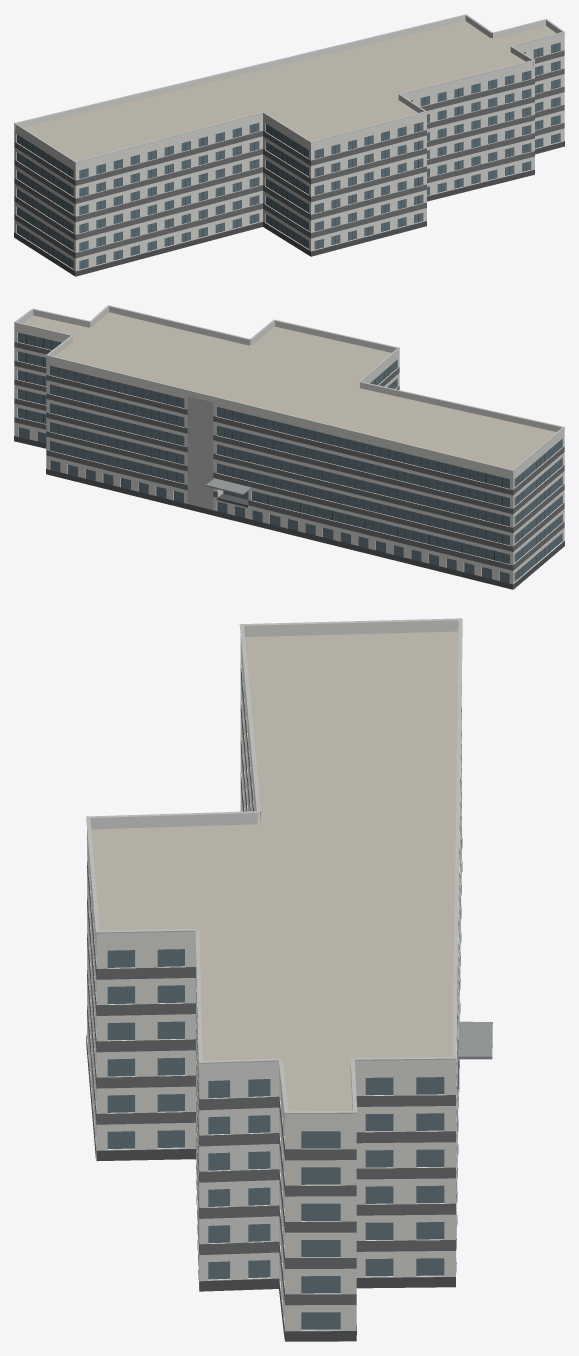
The picture shows the model from 3 angles, top to bottom: view 1: azimuth 30°, elevation 25°; view 2: azimuth 150°, elevation 25°; view 3: azimuth 270°, elevation 25°; orthographic projection. The views are drawn at different scales.
Parts seen in each view (by area): view 1: hyehwa__wall, hyehwa__roof, hyehwa__glass, hyehwa__wall2, hyehwa__parapet, hyehwa__base, hyehwa__trim, hyehwa__frame; view 2: hyehwa__glass, hyehwa__roof, hyehwa__wall, hyehwa__wall2, hyehwa__parapet, hyehwa__trim, hyehwa__base, hyehwa__frame, hyehwa__canopy; view 3: hyehwa__roof, hyehwa__wall, hyehwa__wall2, hyehwa__glass, hyehwa__parapet, hyehwa__trim, hyehwa__base, hyehwa__canopy.
Part boxes in pixels (<box>): hyehwa__wall: <box>14,38,564,276</box>; hyehwa__roof: <box>23,21,555,160</box>; hyehwa__glass: <box>17,42,560,269</box>; hyehwa__wall2: <box>14,50,564,258</box>; hyehwa__parapet: <box>14,15,564,167</box>; hyehwa__base: <box>14,141,564,276</box>; hyehwa__trim: <box>14,14,564,162</box>; hyehwa__frame: <box>27,44,555,268</box>; hyehwa__glass: <box>18,332,562,583</box>; hyehwa__roof: <box>23,312,556,469</box>; hyehwa__wall: <box>14,328,564,589</box>; hyehwa__wall2: <box>14,342,564,570</box>; hyehwa__parapet: <box>14,306,564,476</box>; hyehwa__trim: <box>14,305,564,509</box>; hyehwa__base: <box>14,436,564,589</box>; hyehwa__frame: <box>26,334,549,578</box>; hyehwa__canopy: <box>205,478,251,495</box>; hyehwa__roof: <box>91,631,458,1341</box>; hyehwa__wall: <box>87,639,461,1338</box>; hyehwa__wall2: <box>87,665,461,1305</box>; hyehwa__glass: <box>107,949,444,1329</box>; hyehwa__parapet: <box>87,620,458,1123</box>; hyehwa__trim: <box>86,618,462,1145</box>; hyehwa__base: <box>86,838,462,1341</box>; hyehwa__canopy: <box>458,1021,492,1059</box>.
Bounding box in the file's own units: 102 × 22.12 × 35.61.
